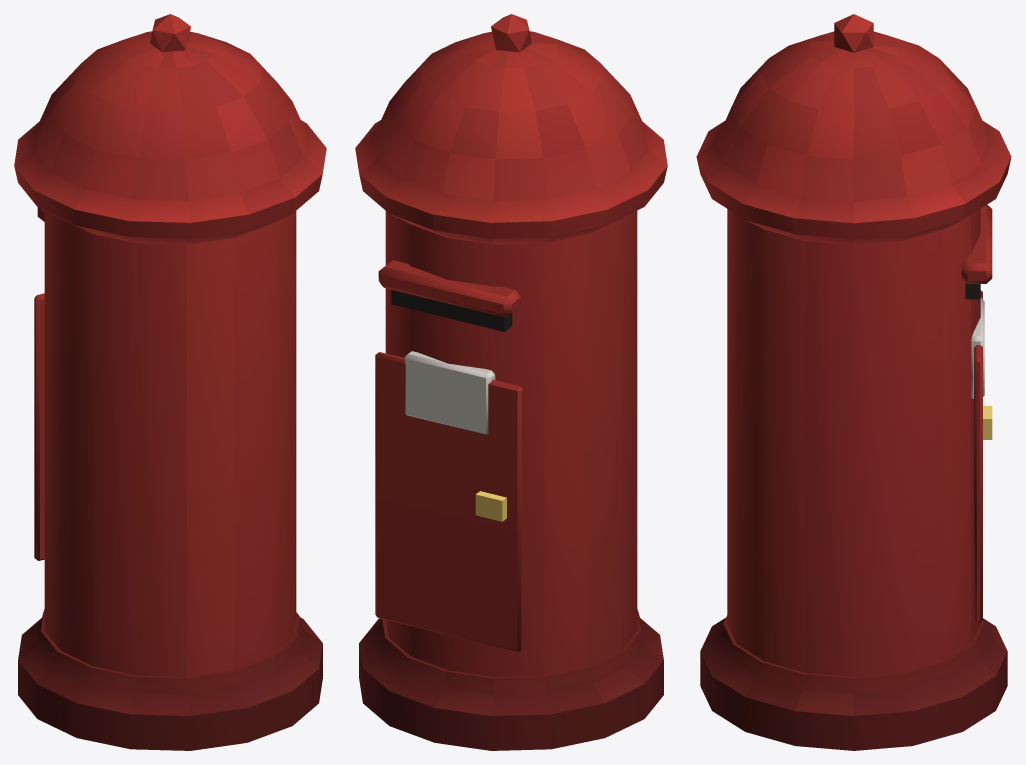
The model's file is post-box.glb.
3 renders of one model, left to right at view 1: azimuth 30°, elevation 25°; view 2: azimuth 150°, elevation 25°; view 3: azimuth 270°, elevation 25°, orthographic.
Visible parts, largest first — view 1: post-box; view 2: post-box; view 3: post-box.
Boxes of the visible parts, x1=… form: post-box: x1=14, y1=14, x2=326, y2=750; post-box: x1=355, y1=14, x2=667, y2=750; post-box: x1=696, y1=14, x2=1011, y2=750.
Bounding box in the file's own units: 0.41 × 0.965 × 0.41.
